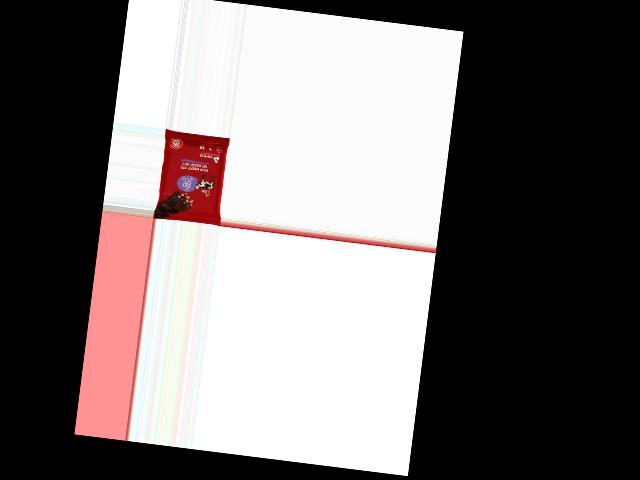chocolate: (156, 128, 231, 225)
